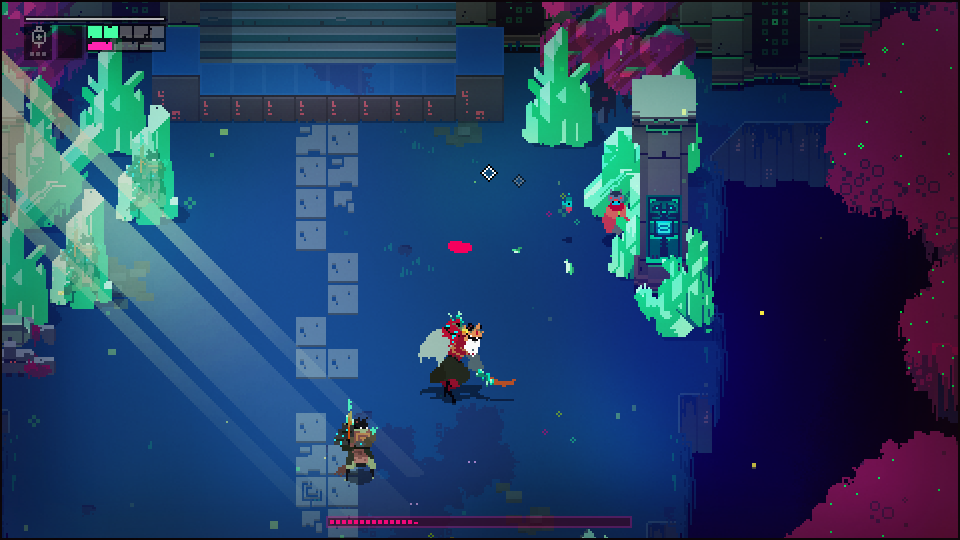hanged_man: (416, 307, 506, 406), (601, 188, 632, 239)
